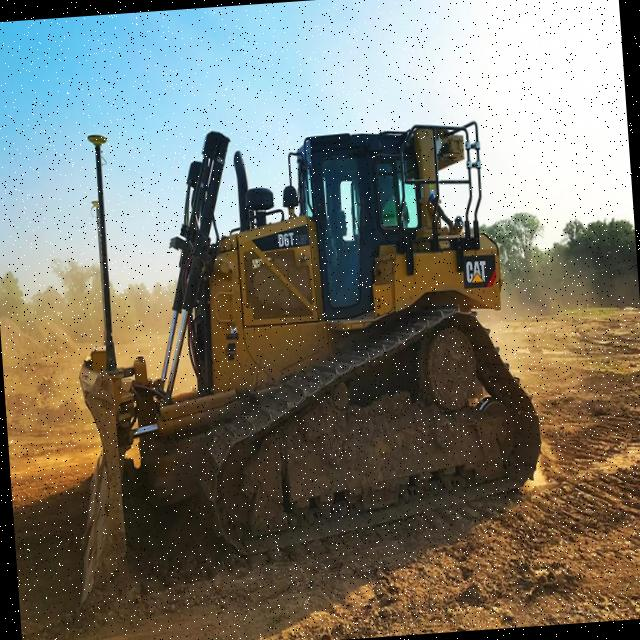Bulldozer: (26, 59, 569, 634)
